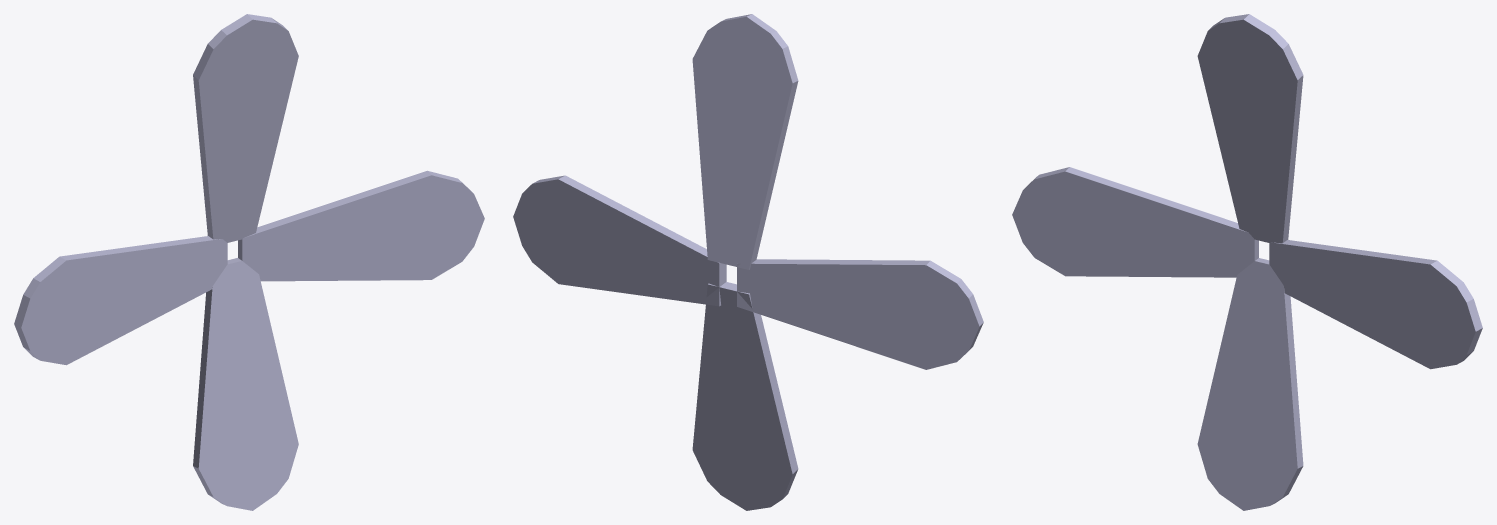
Rendered from ALASVENTILADOR.fbx.
3 views of the same model, side by side, from view 1: azimuth 30°, elevation 25°; view 2: azimuth 150°, elevation 25°; view 3: azimuth 330°, elevation 25° (orthographic).
Parts seen in each view (by area): view 1: Plane; view 2: Plane; view 3: Plane.
Part boxes in pixels (box(x1,y1,x2,y2)): Plane: box(14, 14, 484, 510); Plane: box(513, 14, 983, 510); Plane: box(1012, 14, 1482, 510).
Size of the model in its own units: 577 by 584 by 51.31.
